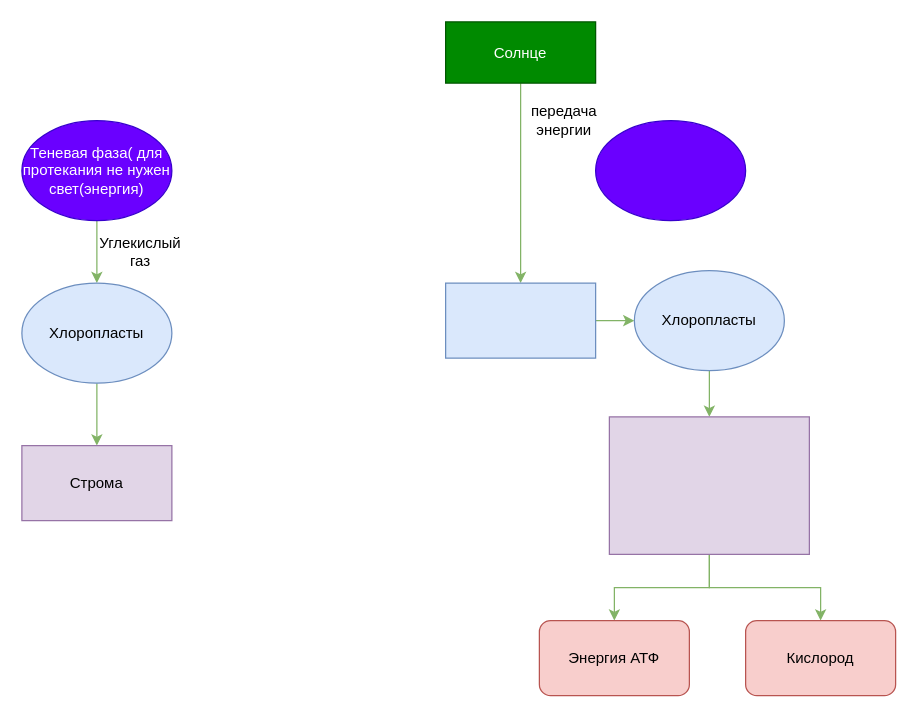
The diagram is 918 pixels wide and 718 high, and some of its shapes have lost their labels. Each missing label, with the centre of its shape:
лист(принимает энергию): (520,320)
Световая фаза( для протекания нужен свет(энегрия): (670,170)
Тилакоиды(Преобразует энергию света в клеточную энергию): (708,485)
